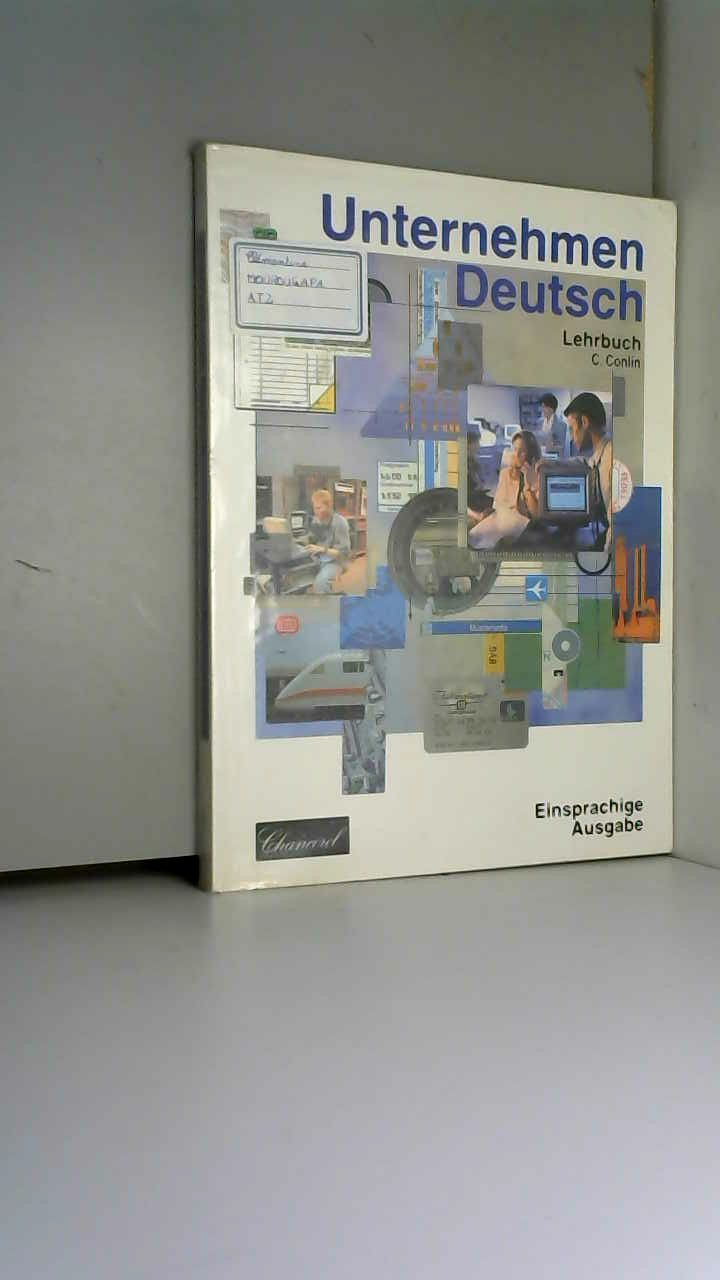book: (160, 110, 717, 910)
